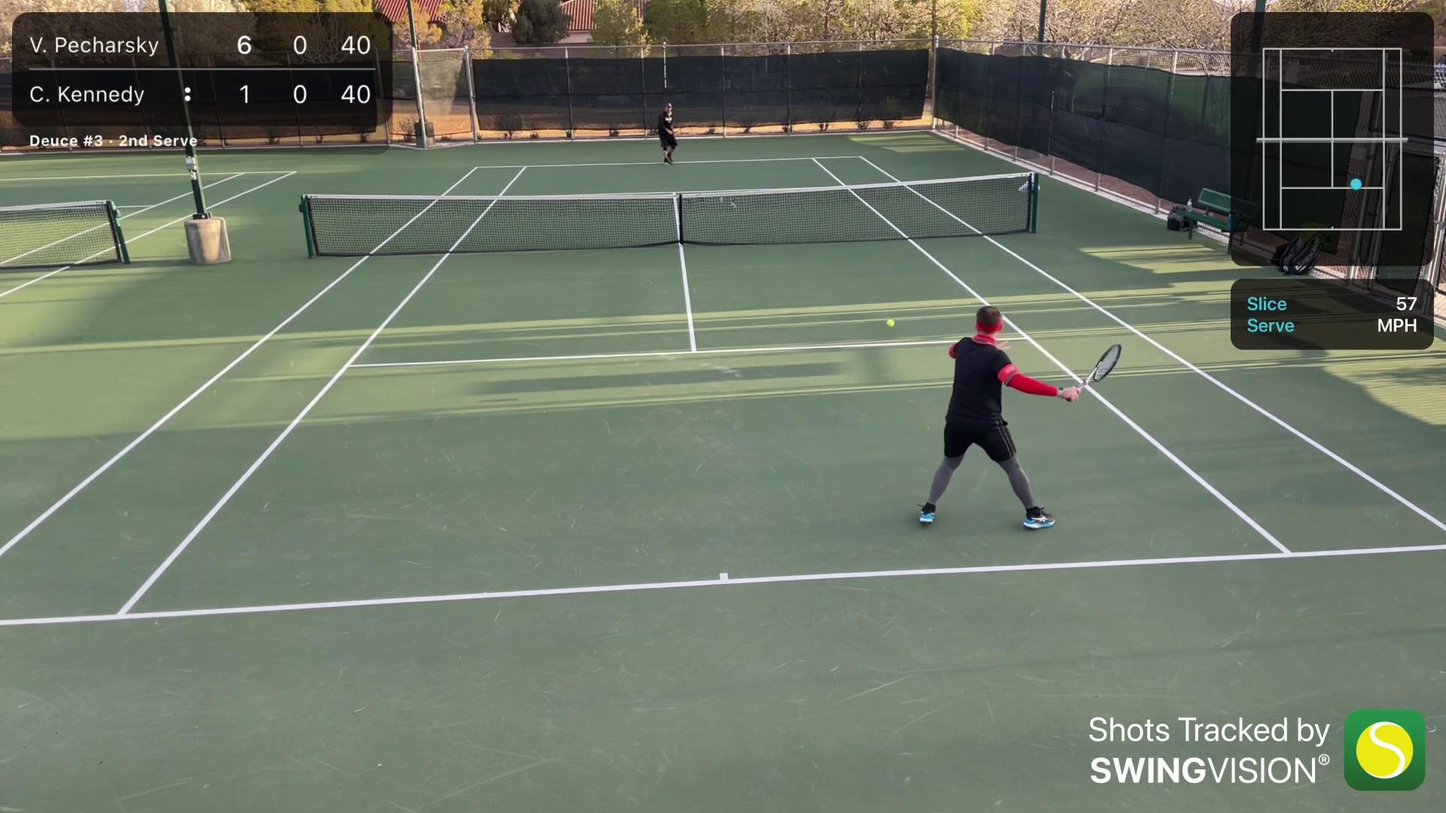ball: (891, 321, 895, 326)
